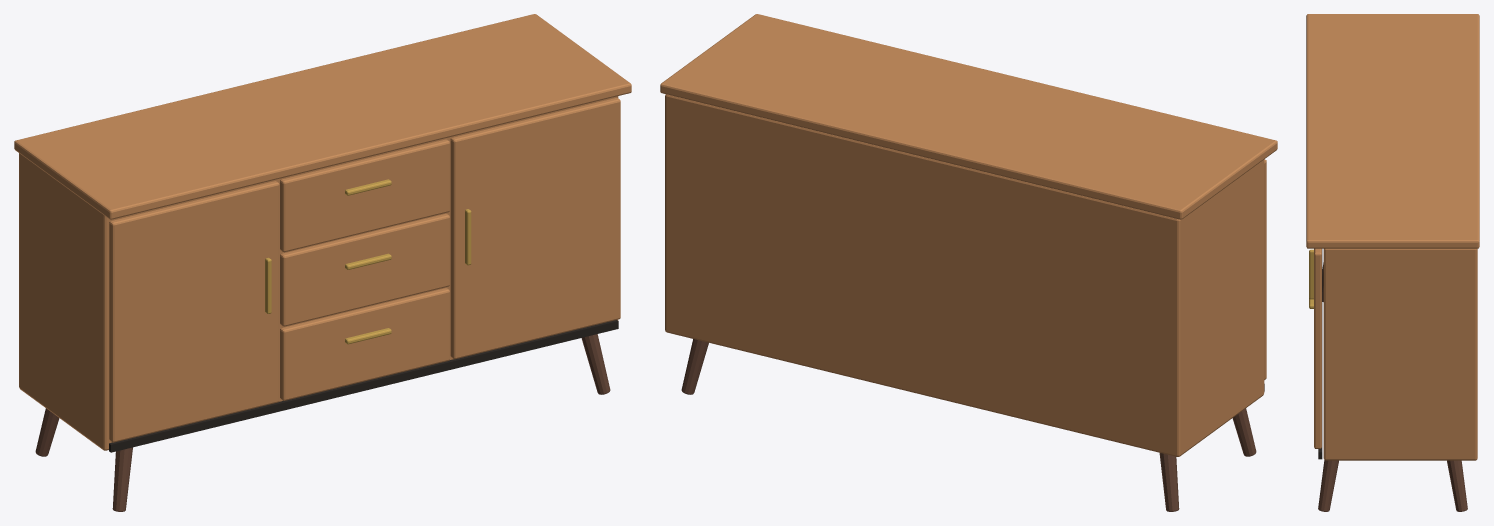
File: hh_cat_sideboard.glb
3 views of the same model, side by side, from view 1: azimuth 30°, elevation 25°; view 2: azimuth 150°, elevation 25°; view 3: azimuth 270°, elevation 25° (orthographic). The views are drawn at different scales.
Visible parts, largest first — view 1: top, door.001, door, carcass, drawer.001, drawer, drawer.002, shadow_gap, leg, leg.002; view 2: carcass, top, leg.001, leg.003; view 3: top, carcass, door.001, leg.002, leg.003, shadow_gap, handle.001.
Part boxes in pixels (<box>): top: <box>14,14,631,219</box>; door.001: <box>450,97,620,359</box>; door: <box>109,181,279,442</box>; carcass: <box>19,96,618,450</box>; drawer.001: <box>280,213,449,326</box>; drawer: <box>280,288,449,400</box>; drawer.002: <box>280,139,449,252</box>; shadow_gap: <box>109,320,618,452</box>; leg: <box>112,447,132,511</box>; leg.002: <box>581,334,610,394</box>; carcass: <box>665,94,1264,456</box>; top: <box>660,14,1277,219</box>; leg.001: <box>1159,453,1179,511</box>; leg.003: <box>681,339,708,394</box>; top: <box>1306,14,1479,248</box>; carcass: <box>1323,248,1477,460</box>; door.001: <box>1314,248,1321,448</box>; leg.002: <box>1318,460,1338,511</box>; leg.003: <box>1447,460,1467,511</box>; shadow_gap: <box>1318,249,1322,459</box>; handle.001: <box>1309,249,1313,299</box>.
Size of the model in its own units: 1.4 by 0.8 by 0.45.
